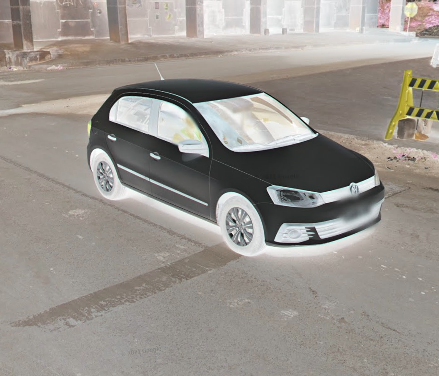car: (85, 63, 387, 258)
